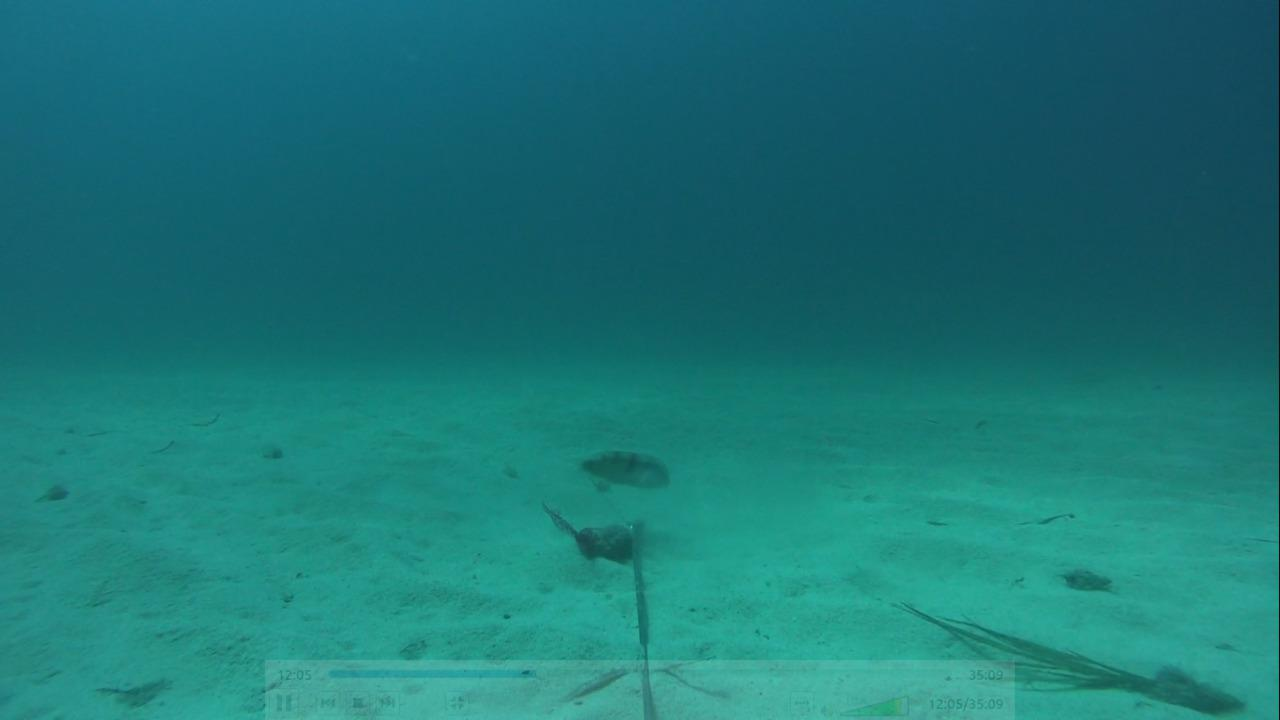raor: (571, 443, 671, 492)
